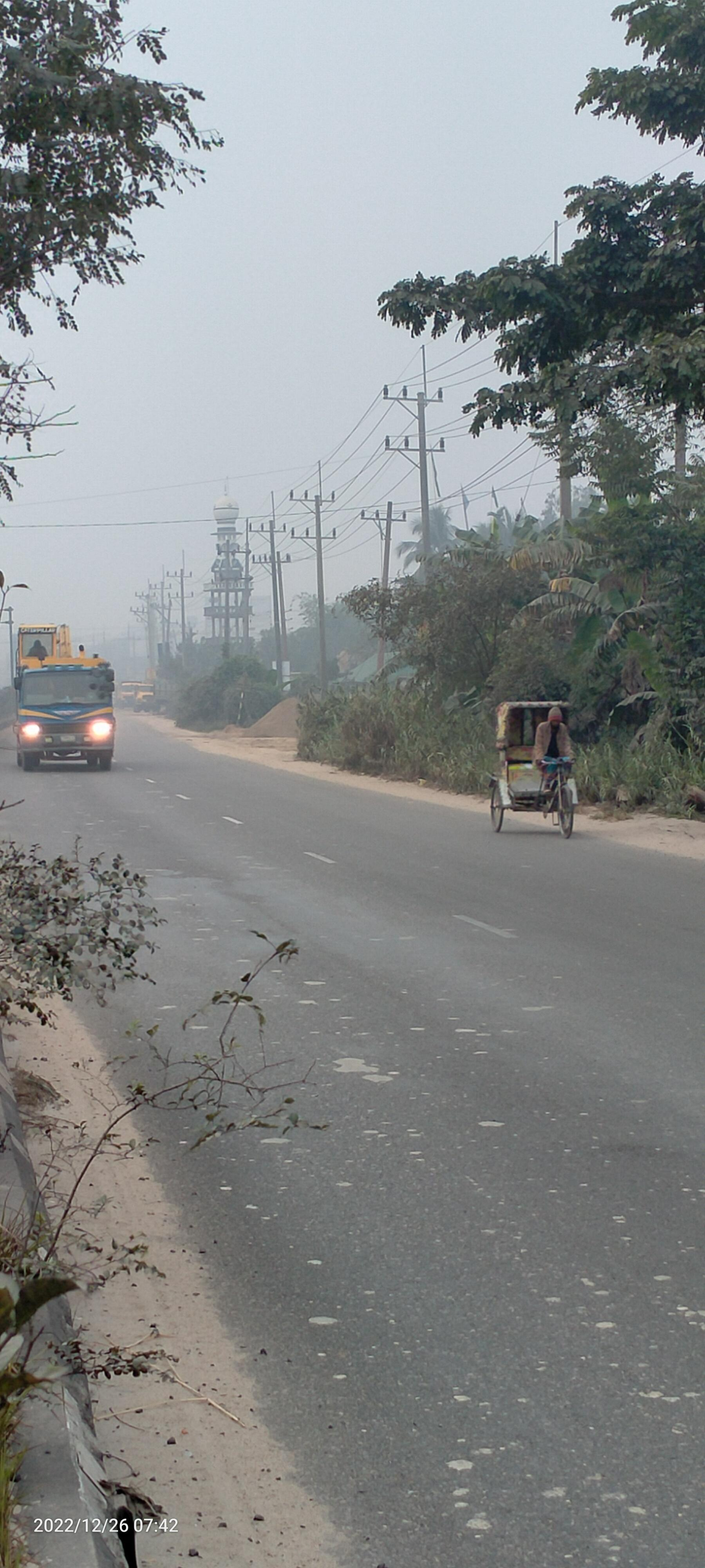Car: (475, 688, 605, 851)
Truck: (9, 624, 138, 773)
